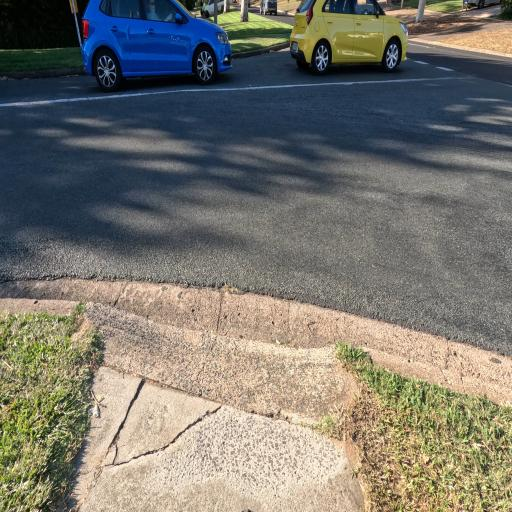kerb_cut: (101, 274, 336, 427)
